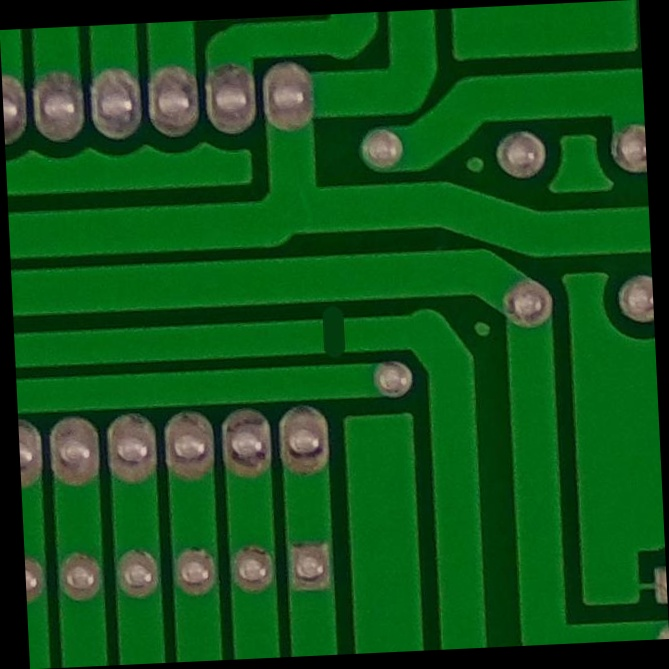open_circuit: (301, 303, 369, 366)
